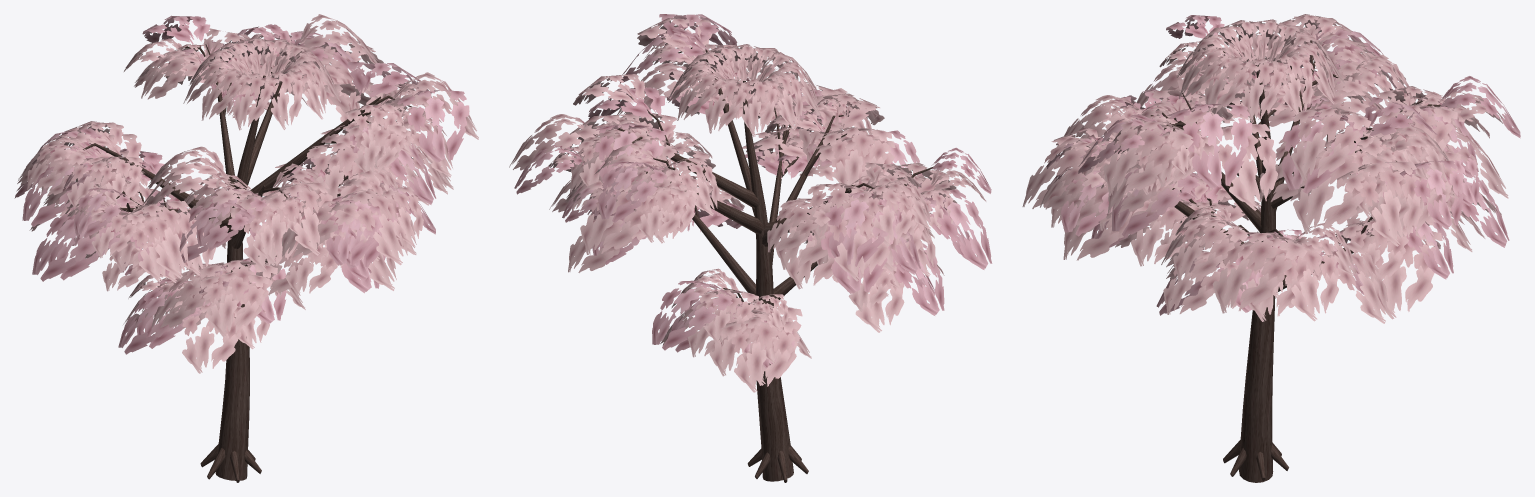
Rendered from sakura_tree_bloom.glb.
3 views of the same model, side by side, from view 1: azimuth 30°, elevation 25°; view 2: azimuth 150°, elevation 25°; view 3: azimuth 270°, elevation 25° (orthographic). The views are drawn at different scales.
Parts seen in each view (by area): view 1: sakura_tree_bloom; view 2: sakura_tree_bloom; view 3: sakura_tree_bloom.
Part boxes in pixels (x1=…): sakura_tree_bloom: x1=14, y1=14, x2=478, y2=482; sakura_tree_bloom: x1=509, y1=14, x2=992, y2=482; sakura_tree_bloom: x1=1022, y1=14, x2=1520, y2=482.
Size of the model in its own units: 7.2 by 6.8 by 6.8.
2 materials, 2 textured.
